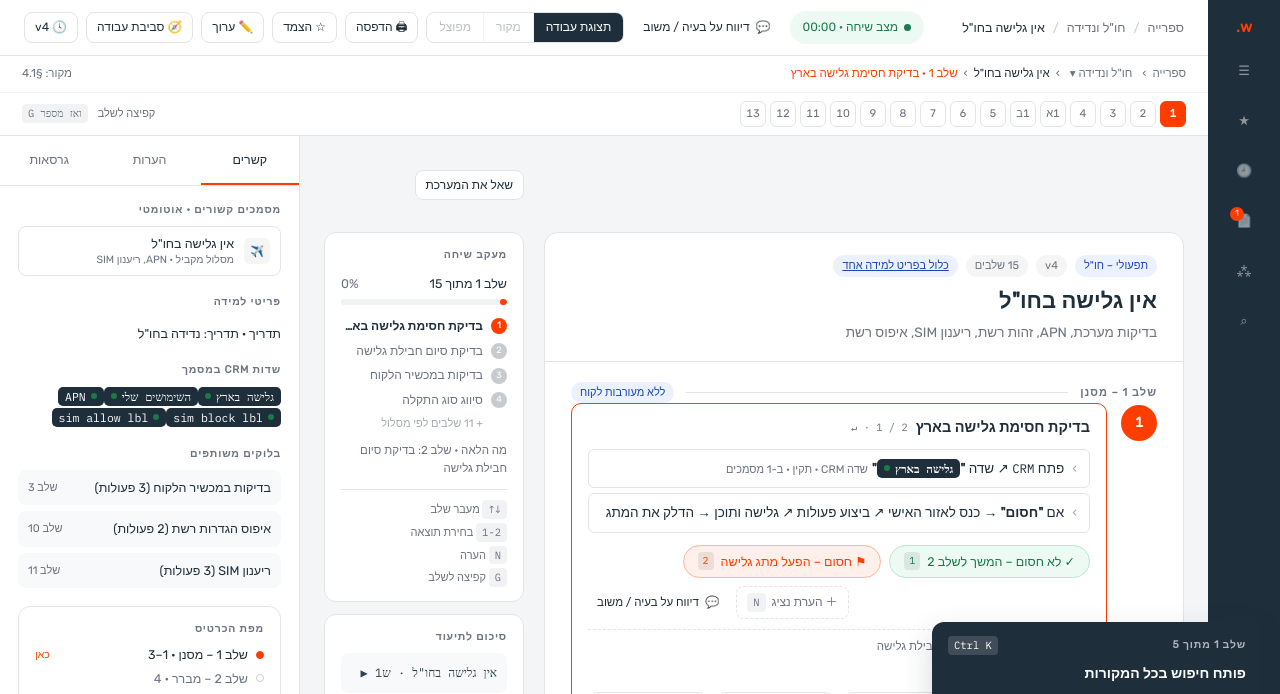
Test: breadcrumb quick-switch › lists the sibling documents in the category and jumps to one
Check: the heading "אין גלישה בחו\"ל" is shown, box [999,287,1157,314]
Click the button named "מסמכים אחרים בחו\"ל ונדידה": (1101, 74) [1066,64,1136,84]
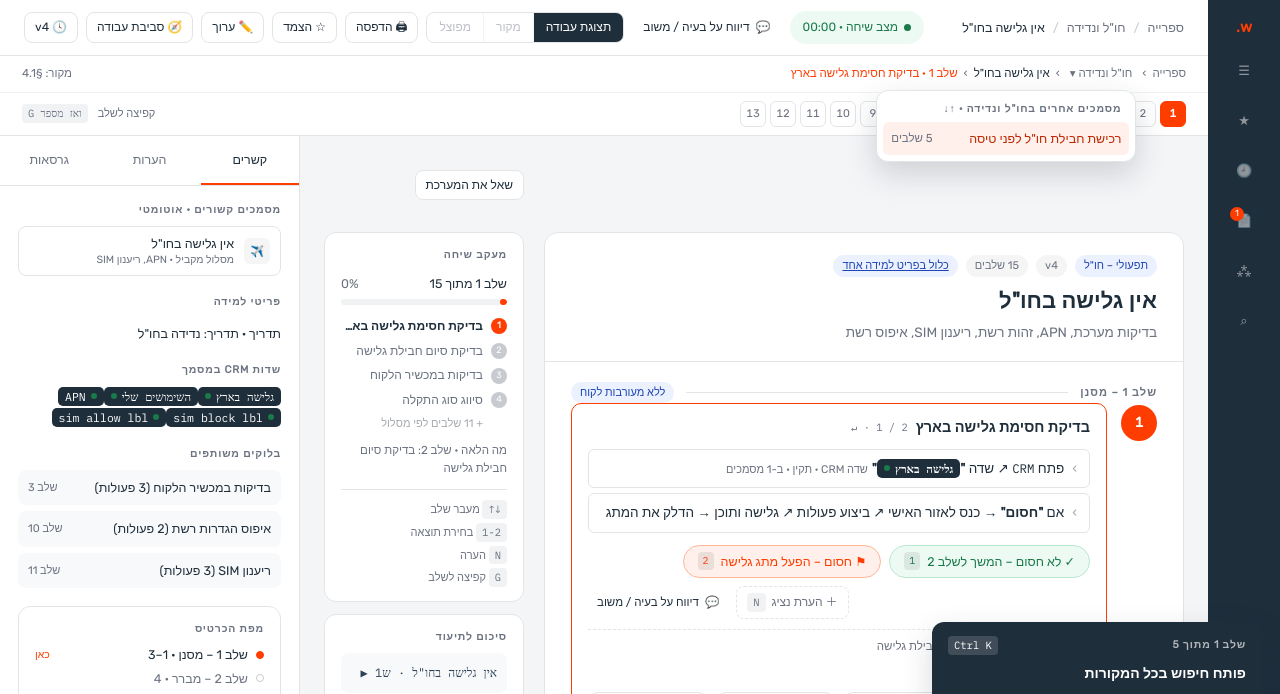
Check: the option shows "רכישת חבילת חו\"ל לפני טיסה"
Click the option "רכישת חבילת חו\"ל לפני טיסה 5 שלבים": (1006, 139) [883,122,1129,156]
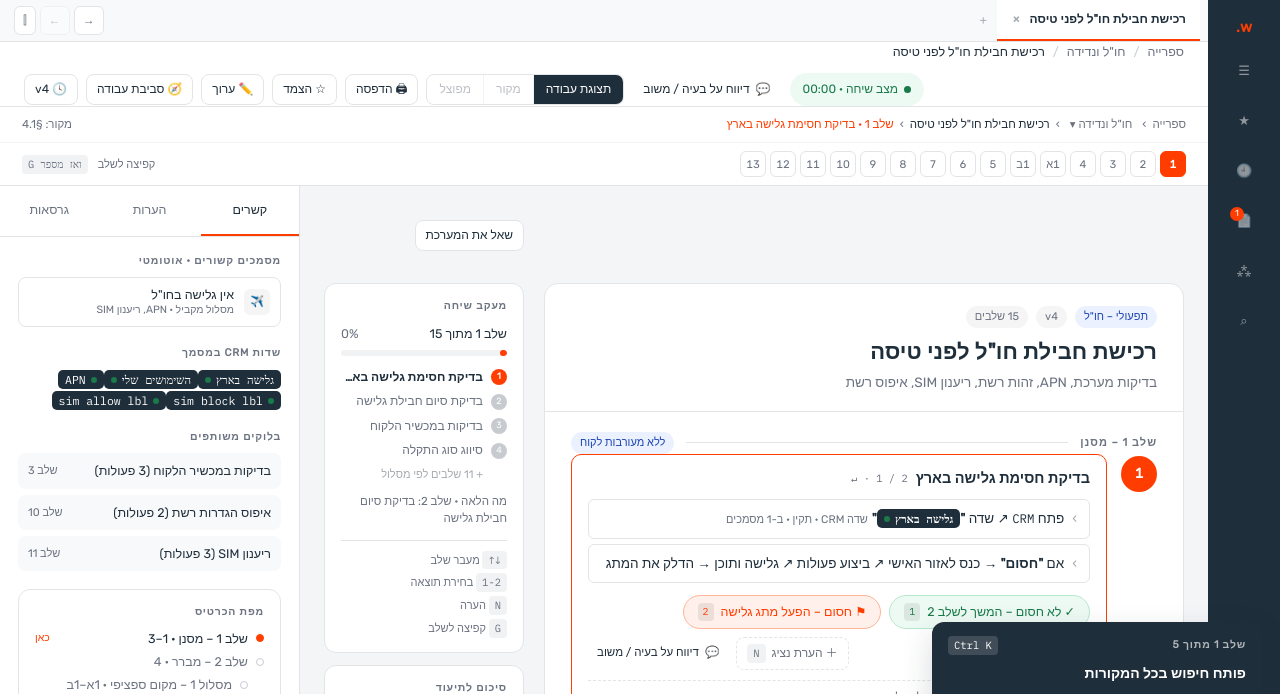
Check: the heading "רכישת חבילת חו\"ל לפני טיסה" is shown, box [870,338,1157,365]
